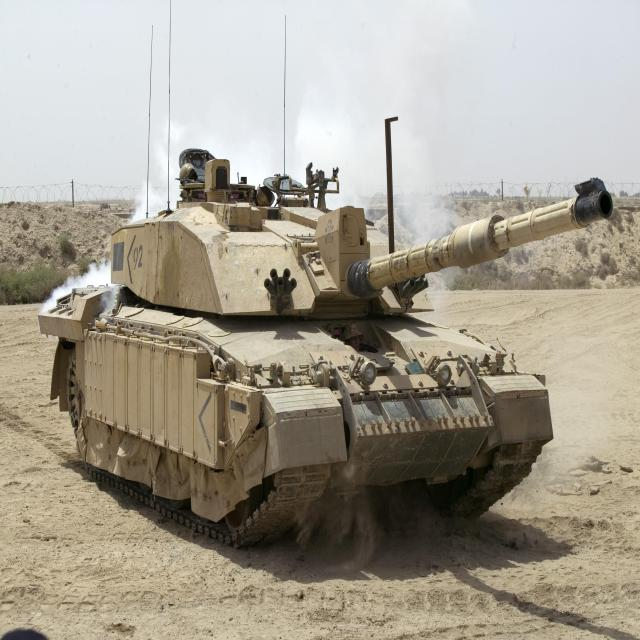Tanks: (46, 99, 565, 556)
